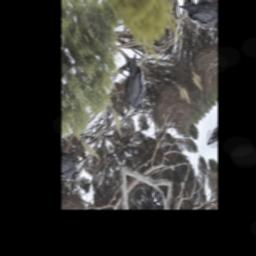Crow: (109, 47, 158, 116)
